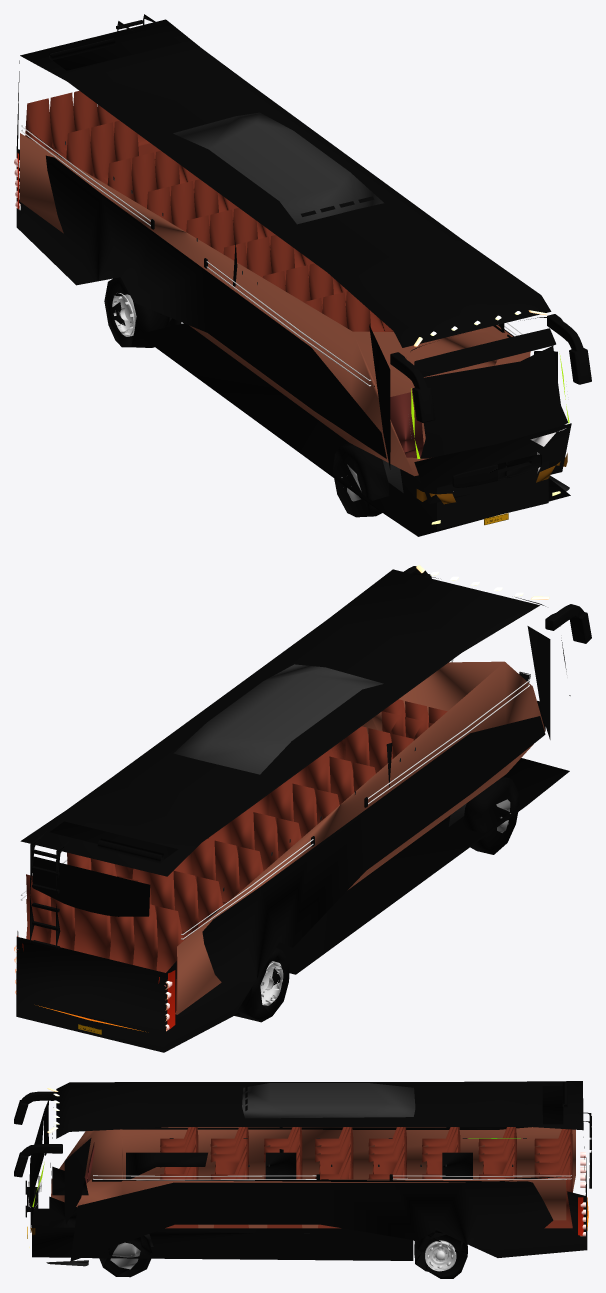
File: bus_coach.glb
3 renders of one model, top to bottom at view 1: azimuth 30°, elevation 25°; view 2: azimuth 150°, elevation 25°; view 3: azimuth 270°, elevation 25°, orthographic. The views are drawn at different scales.
Visible parts, largest first — view 1: Plane_108, Cube.029_32, Cube.003_6, Object_6, Cube.004_7, Cube.030_33, Cube.103_87, Cube.001_4, Cube.104_88, Cube.069_71, Cube.074_76, Cube.073_75 (+16 smaller); view 2: Plane_108, Cube.029_32, Cube.003_6, Object_6, Cube.078_80, Cube.073_75, Cube.074_76, Cube.004_7, Cube.069_71, Cube.064_66, Cube.059_61, Cube.075_77 (+17 smaller); view 3: Plane_108, Cube.029_32, Cube.003_6, Cube.091_85, Object_6, Cube.079_81, Cube.081_83, Cube.004_7, Object_11, Cube.055_57, Cube.060_62, Cube.070_72 (+38 smaller).
Boxes of the visible parts, x1,y1,x2,y2 form: Plane_108: (16, 19, 571, 536); Cube.029_32: (19, 133, 548, 529); Cube.003_6: (173, 112, 383, 224); Object_6: (104, 277, 389, 517); Cube.004_7: (52, 32, 180, 70); Cube.030_33: (390, 392, 431, 458); Cube.103_87: (452, 454, 541, 487); Cube.001_4: (390, 352, 435, 422); Cube.104_88: (547, 314, 591, 384); Cube.069_71: (90, 122, 115, 184); Cube.074_76: (49, 92, 74, 155); Cube.073_75: (25, 98, 66, 158); Plane_108: (16, 569, 570, 1052); Cube.029_32: (26, 661, 545, 1014); Cube.003_6: (173, 664, 383, 774); Object_6: (234, 777, 519, 1022); Cube.078_80: (74, 908, 110, 959); Cube.073_75: (156, 906, 190, 1012); Cube.074_76: (133, 904, 157, 970); Cube.004_7: (49, 821, 178, 859); Cube.069_71: (173, 870, 198, 933); Cube.064_66: (214, 840, 239, 902); Cube.059_61: (253, 812, 278, 870); Cube.075_77: (109, 916, 134, 964); Plane_108: (28, 1081, 588, 1261); Cube.029_32: (50, 1127, 575, 1228); Cube.003_6: (242, 1083, 415, 1118); Cube.091_85: (126, 1152, 513, 1179); Object_6: (99, 1230, 467, 1278); Cube.079_81: (122, 1126, 531, 1129); Cube.081_83: (92, 1176, 565, 1182); Cube.004_7: (542, 1086, 563, 1124); Object_11: (425, 1240, 456, 1271); Cube.055_57: (315, 1127, 353, 1174); Cube.060_62: (368, 1127, 406, 1174); Cube.070_72: (478, 1127, 516, 1174).
Bounding box in the file's own units: 3.44 × 4.41 × 14.44.
Materials: 44 (1 with a texture image).
